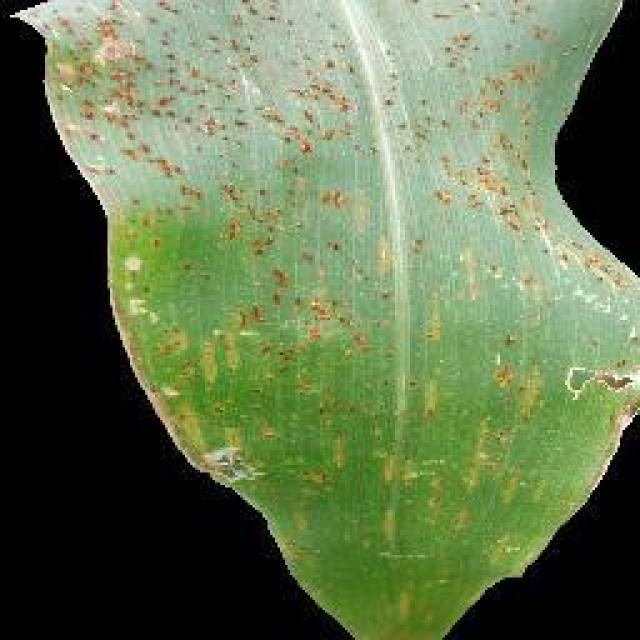Corn Common Rust: (95, 20, 527, 437)
